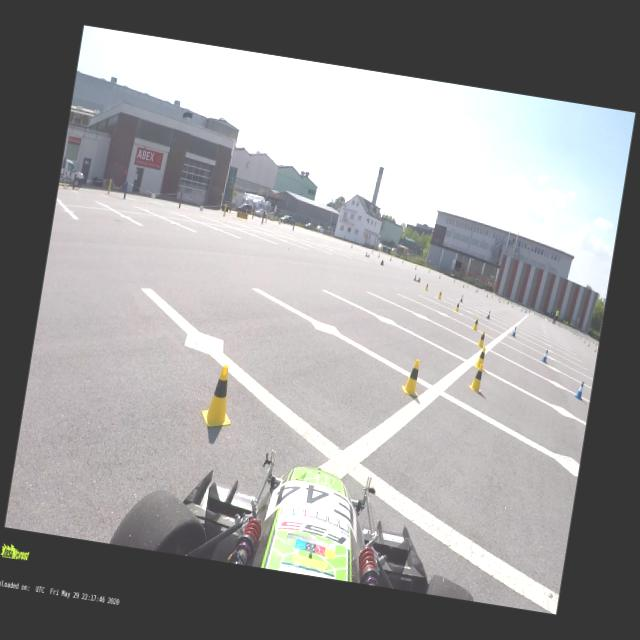blue_cone: (574, 380, 584, 400), (542, 348, 549, 363), (511, 327, 517, 338), (486, 310, 492, 320), (459, 294, 464, 302)
yellow_cone: (200, 362, 240, 429), (401, 358, 424, 397), (469, 363, 486, 394), (476, 347, 486, 370), (477, 330, 486, 348), (472, 318, 478, 332), (455, 302, 460, 312), (425, 282, 429, 292), (438, 291, 442, 300)
